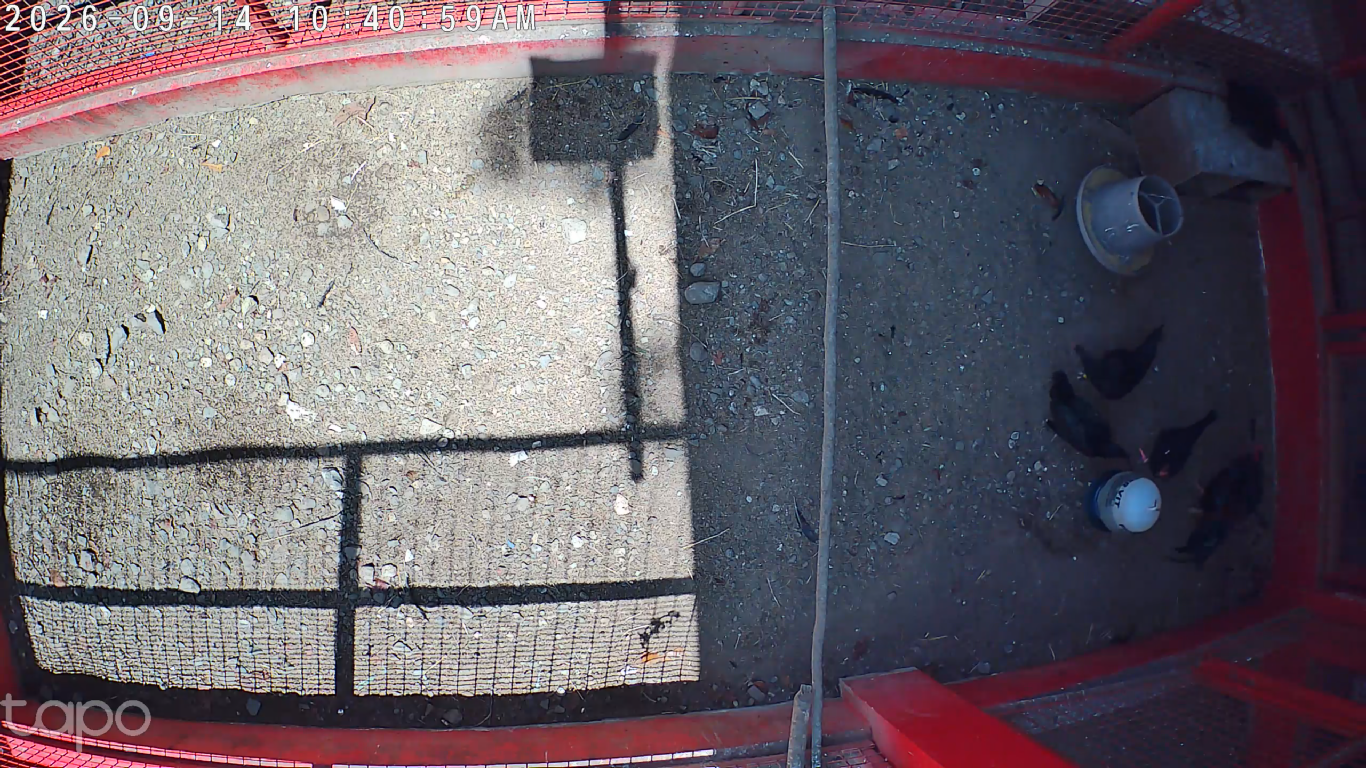Chicken: (1035, 365, 1131, 465), (1070, 324, 1167, 401), (1136, 412, 1220, 481)
Drinker: (1090, 470, 1163, 537)
Feeder: (1072, 164, 1186, 278)
Rooster: (1165, 451, 1269, 572)
